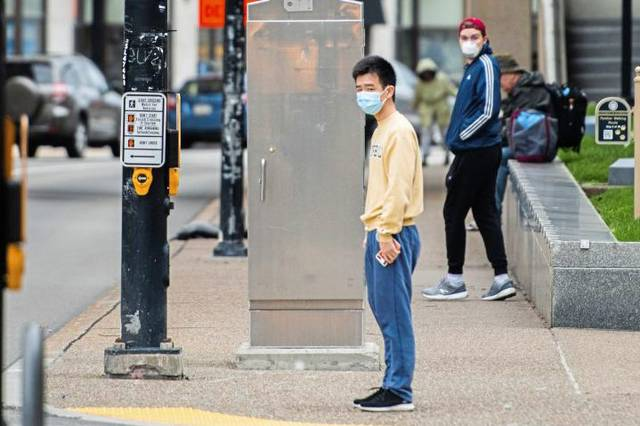Person: (342, 59, 430, 405), (447, 15, 517, 317)
